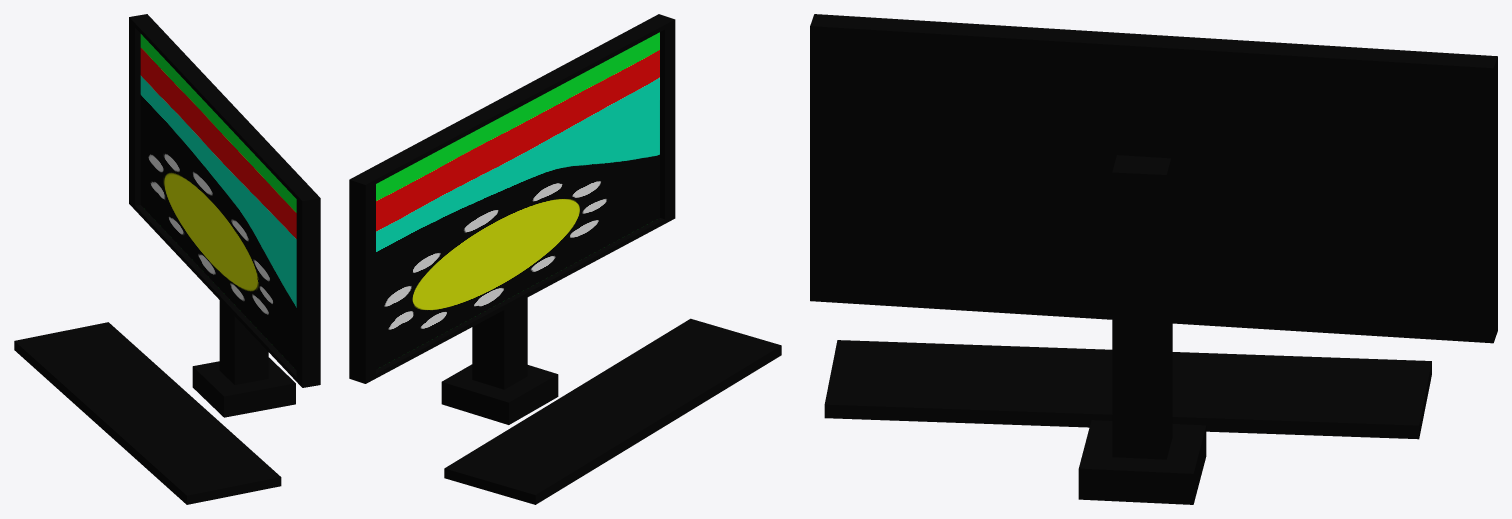
File: Computer.fbx
The picture shows the model from 3 angles, left to right: view 1: azimuth 30°, elevation 25°; view 2: azimuth 150°, elevation 25°; view 3: azimuth 270°, elevation 25°; orthographic projection. The views are drawn at different scales.
Parts seen in each view (by area): view 1: Computer; view 2: Computer; view 3: Computer.
Part boxes in pixels (x1,y1,x2,y2): Computer: (14,14,320,504); Computer: (349,14,781,504); Computer: (810,14,1497,504).
Size of the model in its own units: 40.88 by 56.91 by 83.3.
